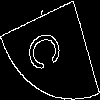C: (25, 24, 70, 75)
